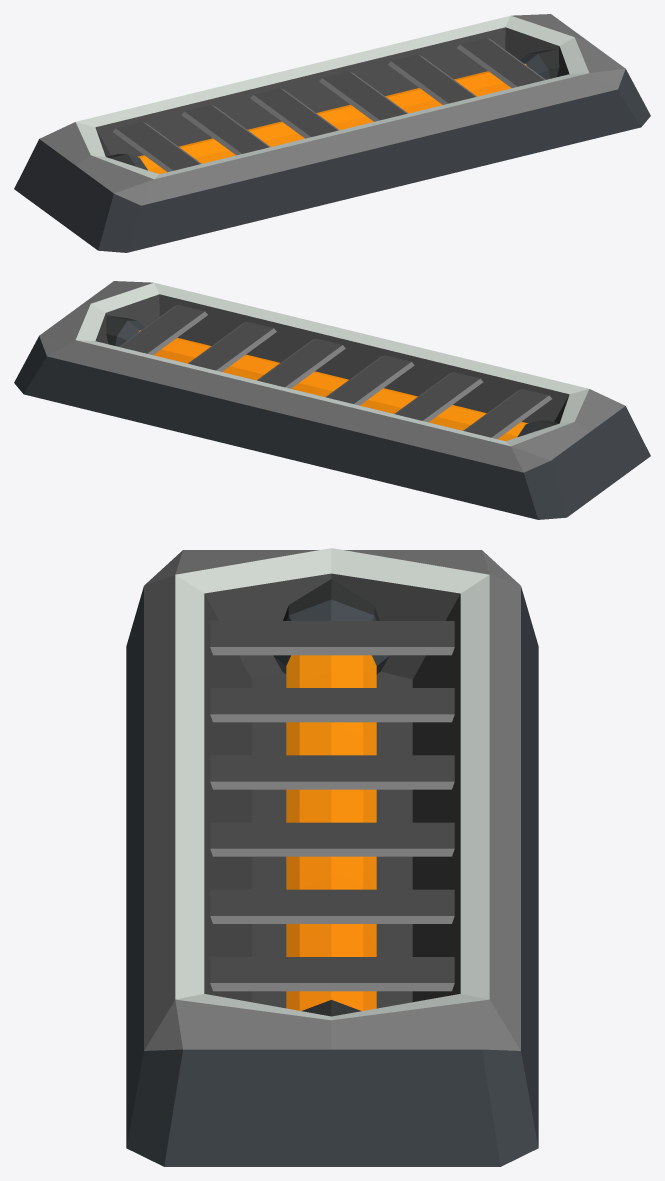
File: NeonLight_01.glb
The picture shows the model from 3 angles, top to bottom: view 1: azimuth 30°, elevation 25°; view 2: azimuth 150°, elevation 25°; view 3: azimuth 270°, elevation 25°; orthographic projection. The views are drawn at different scales.
Parts seen in each view (by area): view 1: NeonLight_01; view 2: NeonLight_01; view 3: NeonLight_01.
Part boxes in pixels (x1,y1,x2,y2): NeonLight_01: [14, 14, 650, 252]; NeonLight_01: [14, 281, 650, 519]; NeonLight_01: [126, 548, 538, 1166].
Size of what is drawn, in the model's own units: 2 by 0.1952 by 0.6455.
2 materials, 2 textured.
